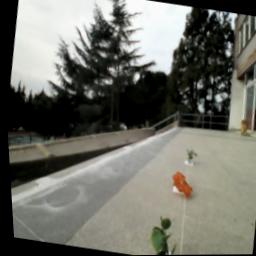herb: (143, 214, 180, 256), (182, 147, 197, 165)
wild: (166, 170, 195, 202)
